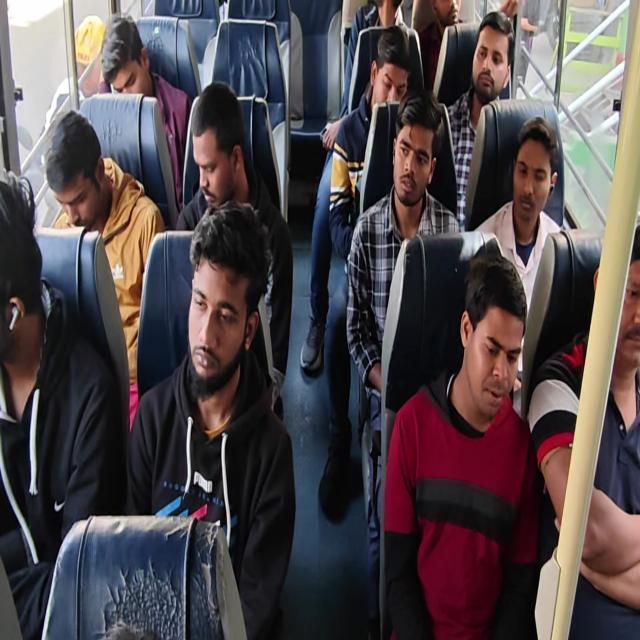person: (1, 1, 638, 638), (126, 200, 296, 638), (345, 88, 461, 637), (382, 253, 542, 638), (0, 170, 125, 638), (527, 222, 639, 638), (175, 80, 293, 420), (44, 109, 166, 432), (300, 24, 412, 374), (473, 115, 562, 399), (99, 12, 192, 206), (444, 10, 516, 229), (321, 0, 410, 151), (42, 14, 106, 135), (411, 0, 462, 92)
